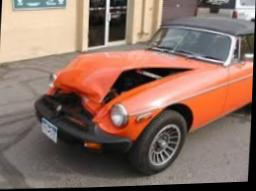Bonnet: (53, 50, 207, 119)
